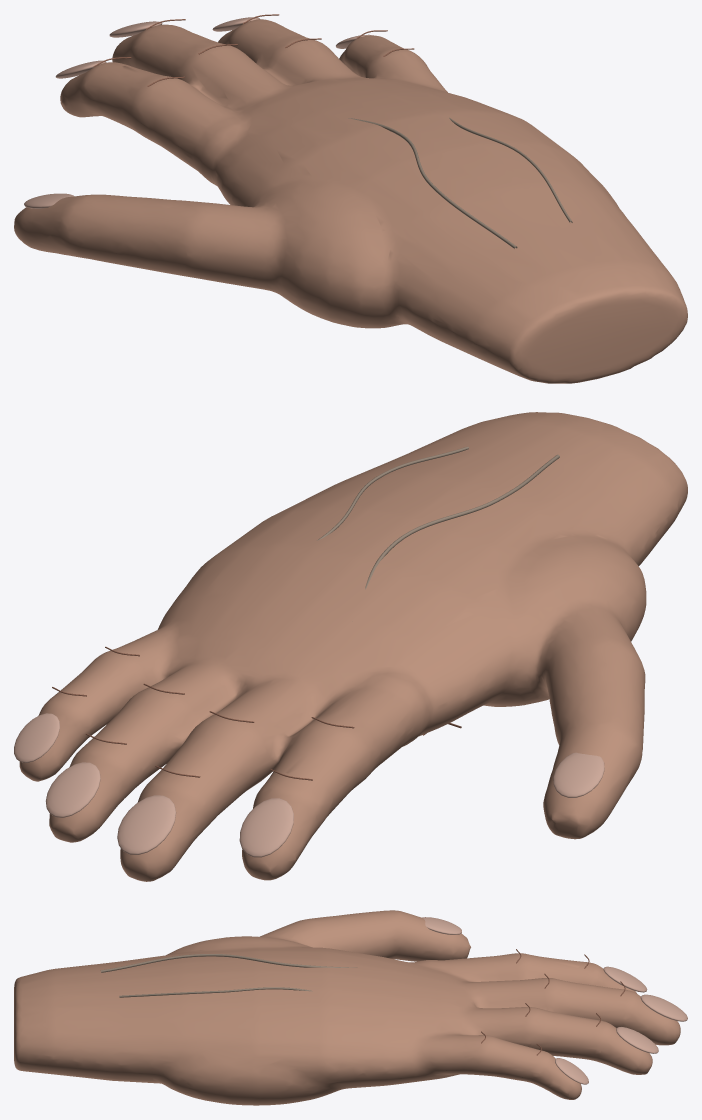
Rendered from player_hand.glb.
3 views of the same model, one above another, from view 1: azimuth 30°, elevation 25°; view 2: azimuth 150°, elevation 25°; view 3: azimuth 270°, elevation 25° (orthographic). The views are drawn at different scales.
Parts seen in each view (by area): view 1: SM_PlayerHand_Skin, SM_PlayerHand_Vein_A; view 2: SM_PlayerHand_Skin, SM_PlayerHand_Nail_Middle, SM_PlayerHand_Nail_Index, SM_PlayerHand_Nail_Ring, SM_PlayerHand_Nail_Thumb, SM_PlayerHand_Nail_Pinky, SM_PlayerHand_Vein_A; view 3: SM_PlayerHand_Skin, SM_PlayerHand_Vein_A, SM_PlayerHand_Nail_Middle, SM_PlayerHand_Nail_Ring, SM_PlayerHand_Nail_Index, SM_PlayerHand_Vein_B, SM_PlayerHand_Nail_Pinky, SM_PlayerHand_Nail_Thumb.
Boxes of the visible parts, bbox=[...] form: SM_PlayerHand_Skin: bbox=[14, 19, 687, 383]; SM_PlayerHand_Vein_A: bbox=[348, 118, 517, 248]; SM_PlayerHand_Skin: bbox=[19, 412, 687, 881]; SM_PlayerHand_Nail_Middle: bbox=[117, 795, 176, 854]; SM_PlayerHand_Nail_Index: bbox=[239, 798, 293, 857]; SM_PlayerHand_Nail_Ring: bbox=[45, 762, 100, 817]; SM_PlayerHand_Nail_Thumb: bbox=[553, 752, 604, 797]; SM_PlayerHand_Nail_Pinky: bbox=[14, 713, 59, 762]; SM_PlayerHand_Vein_A: bbox=[352, 454, 559, 621]; SM_PlayerHand_Skin: bbox=[14, 910, 680, 1105]; SM_PlayerHand_Vein_A: bbox=[100, 954, 357, 972]; SM_PlayerHand_Nail_Middle: bbox=[640, 994, 687, 1021]; SM_PlayerHand_Nail_Ring: bbox=[616, 1027, 658, 1053]; SM_PlayerHand_Nail_Index: bbox=[603, 966, 647, 992]; SM_PlayerHand_Vein_B: bbox=[119, 987, 312, 997]; SM_PlayerHand_Nail_Pinky: bbox=[555, 1058, 588, 1084]; SM_PlayerHand_Nail_Thumb: bbox=[422, 917, 461, 934].
Bounding box in the file's own units: 0.1262 × 0.0372 × 0.2168.
